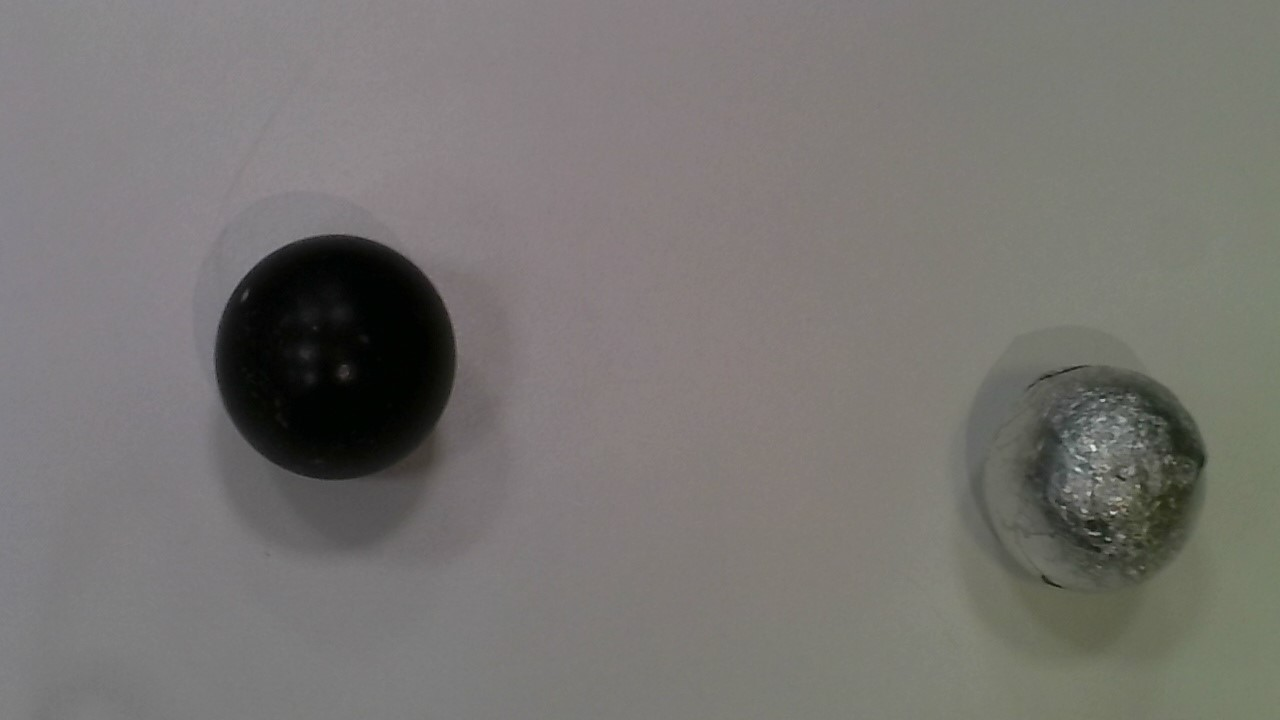black_ball: (206, 231, 466, 485)
silver_ball: (971, 364, 1217, 596)
